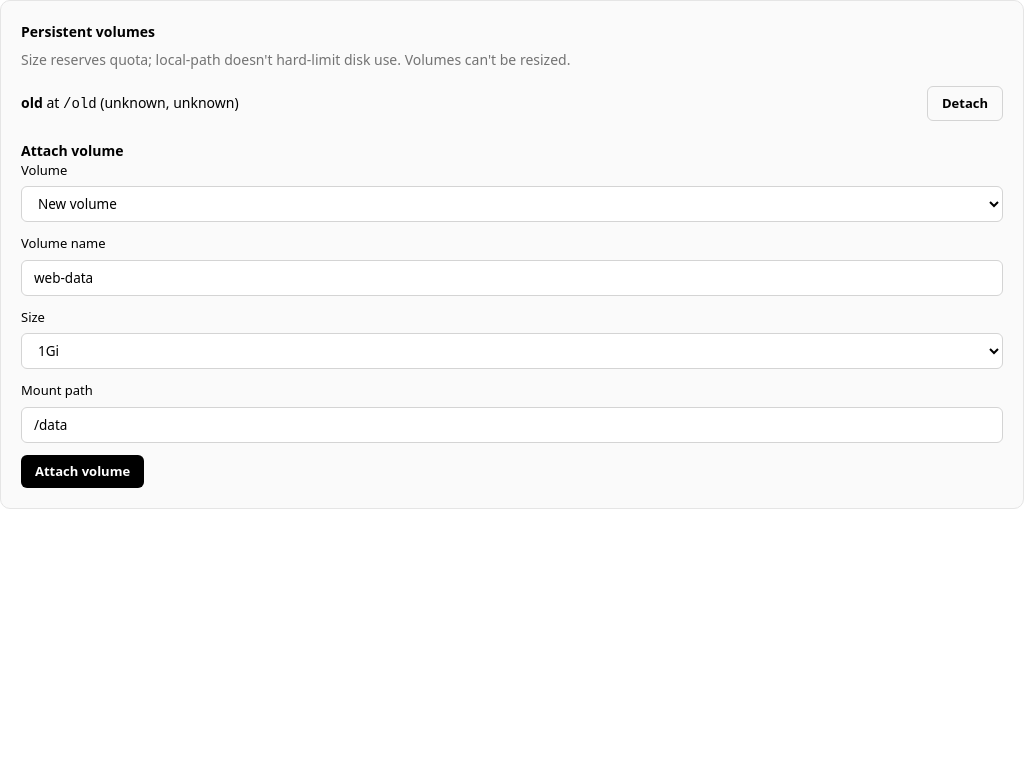
it: AppVolumesCard › blocks invalid names and mount paths before submitting
The width and height of the screenshot is (1024, 768).
Replace the text in the field labelled "Volume name" with "Bad_Name" at {"x": 512, "y": 278}, box [21,260,1003,296]
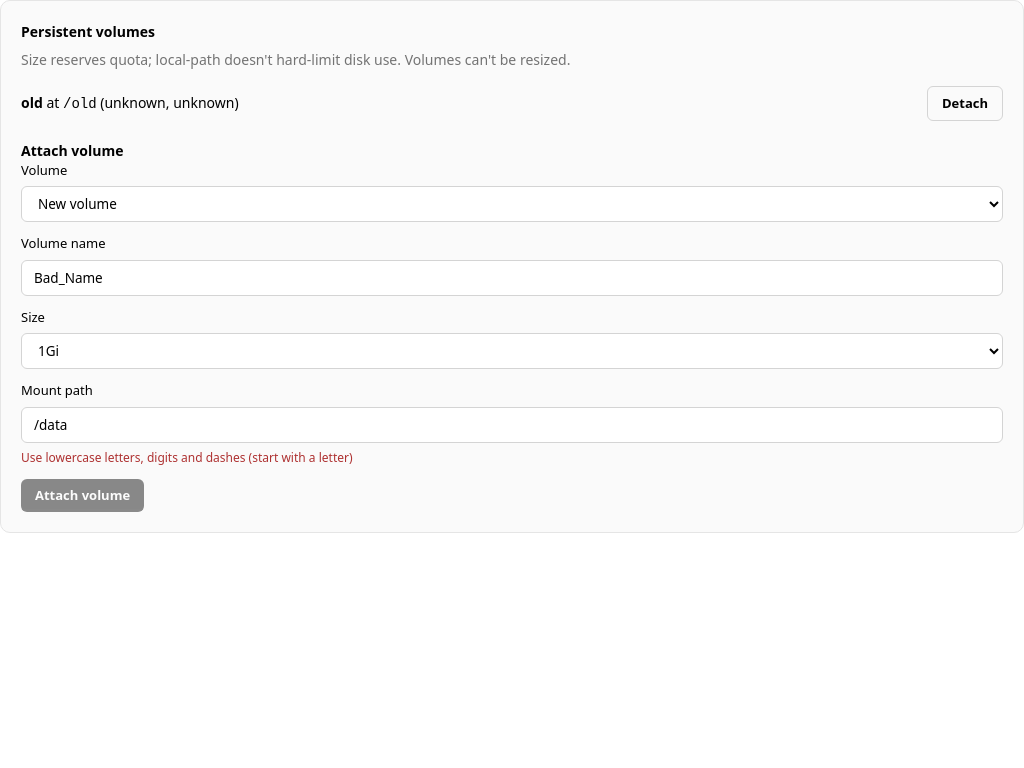
Now the button "Attach volume" is disabled, box [21,479,144,512]
Replace the text in the field labelled "Volume name" with "good" at {"x": 512, "y": 278}, box [21,260,1003,296]
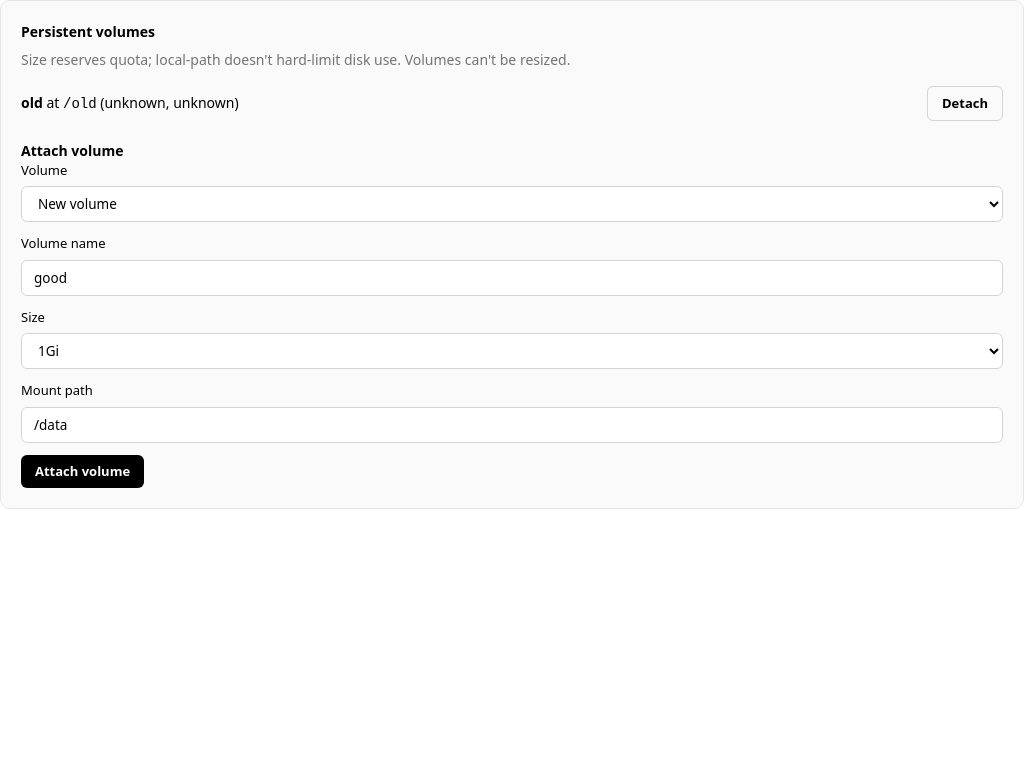
Replace the text in the field labelled "Mount path" with "/proc/x" at {"x": 512, "y": 425}, box [21,407,1003,443]
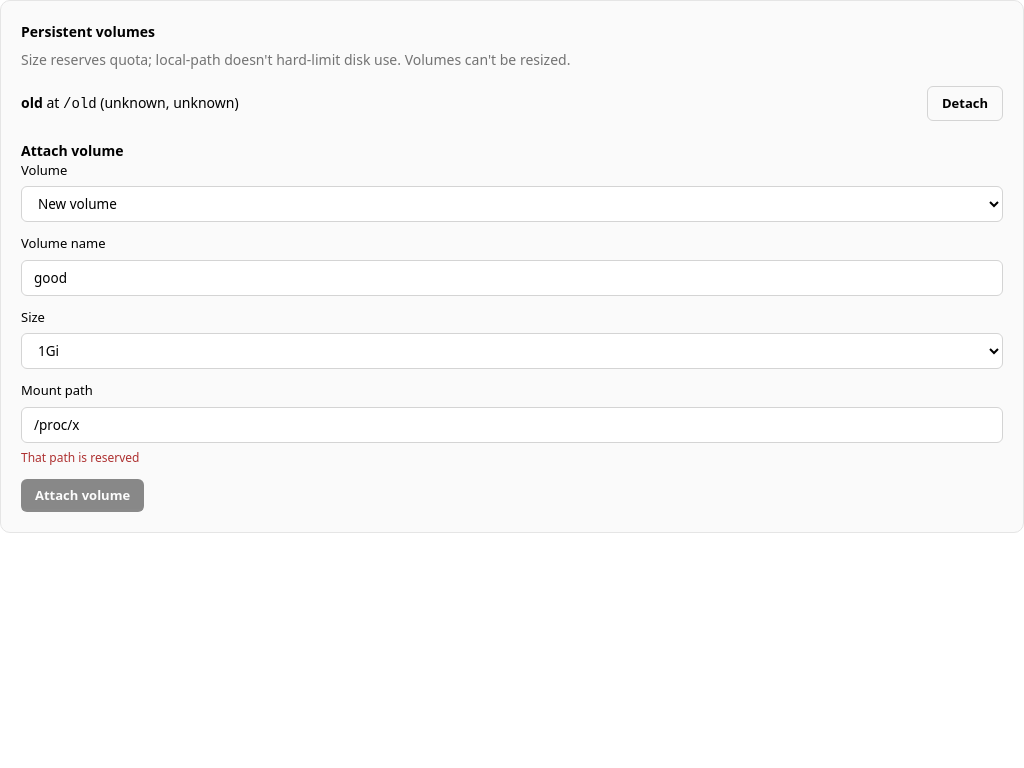
Now the text "That path is reserved" is shown, box [21,449,139,466]
Now the button "Attach volume" is disabled, box [21,479,144,512]
